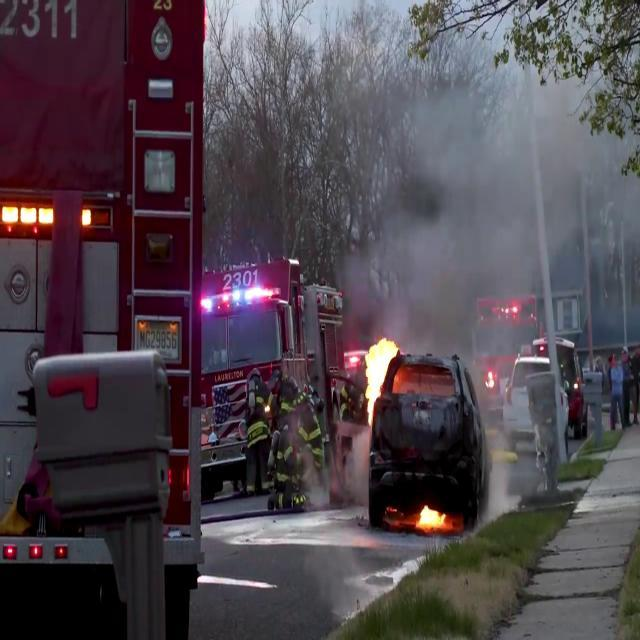Fire: (363, 329, 398, 419), (413, 500, 449, 533)
Smoke: (348, 18, 640, 356)
